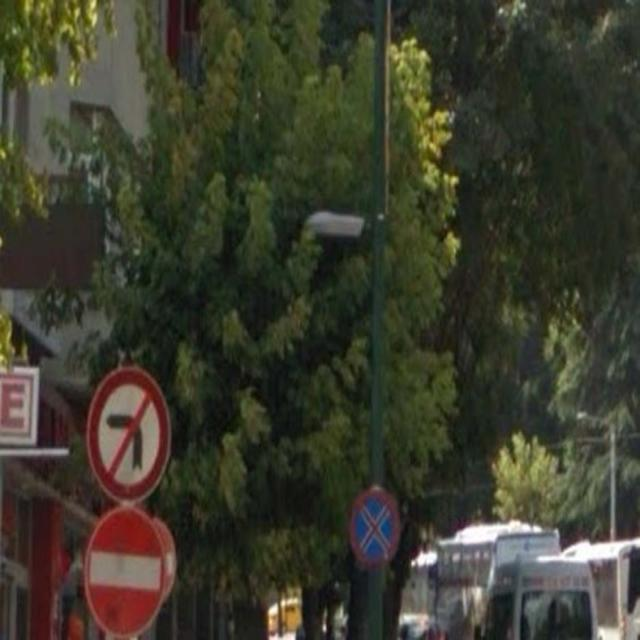girisyok: (84, 508, 164, 638)
soladonulmez: (86, 367, 170, 502)
